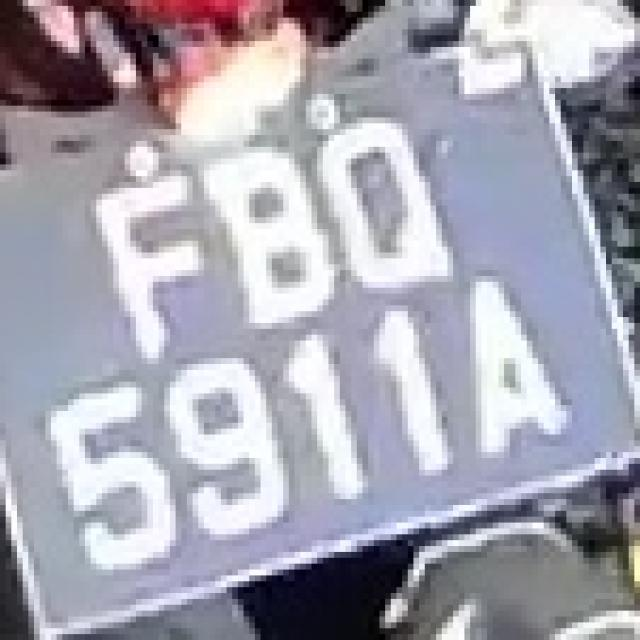1: (278, 317, 362, 511), (374, 288, 447, 499)
5: (34, 376, 170, 587)
9: (153, 341, 306, 546)
A: (430, 252, 578, 470)
B: (192, 147, 346, 340)
F: (74, 164, 204, 358)
Q: (312, 106, 464, 300)
